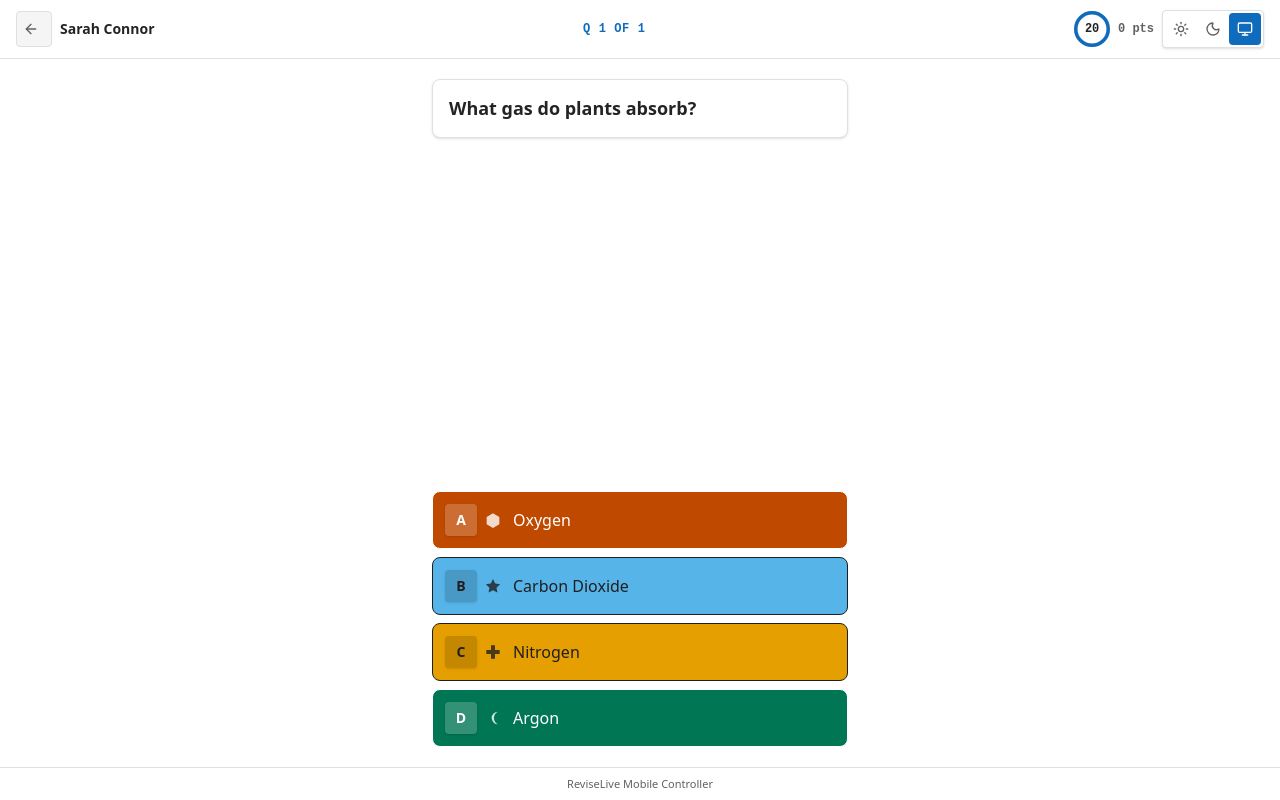
PlayerGamePad - F1 Student Question and Option Cards Tests › renders readable cards with reveal states, correct answer highlighted, student choice marked, and misconception insight
# Student selects Oxygen (index 0 - incorrect)
What coordinates should you click on to do the following:
click the button with aria-label "Option A (Hexagon): Oxygen"
I would click on:
 (461, 520)
Its box is [432,490,848,548].
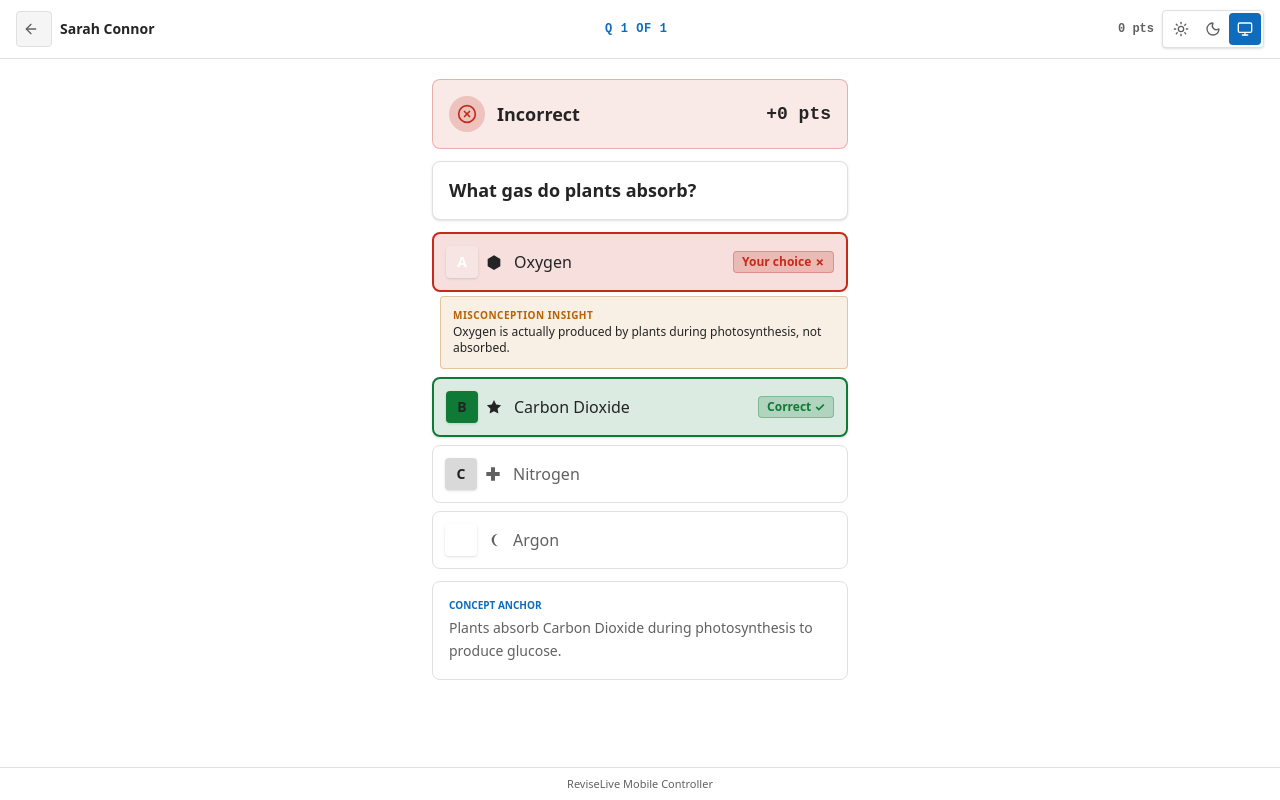
Now the heading "Incorrect" is shown, box [497,103,580,125]
Now the text "Correct ✓" is shown, box [758,396,834,418]
Now the text "Your choice ✗" is shown, box [733,251,834,273]
